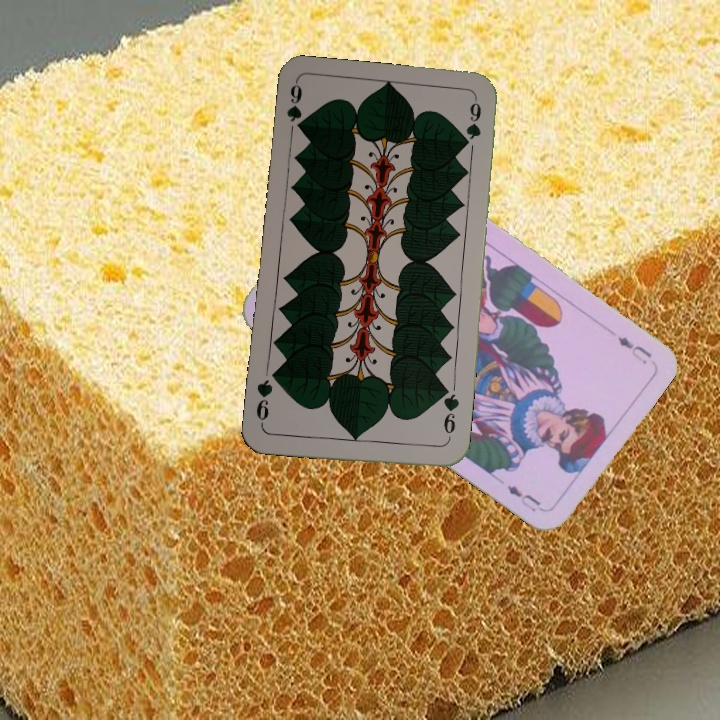EU: (613, 332, 655, 367)
G9: (438, 385, 462, 445), (283, 80, 305, 132)
